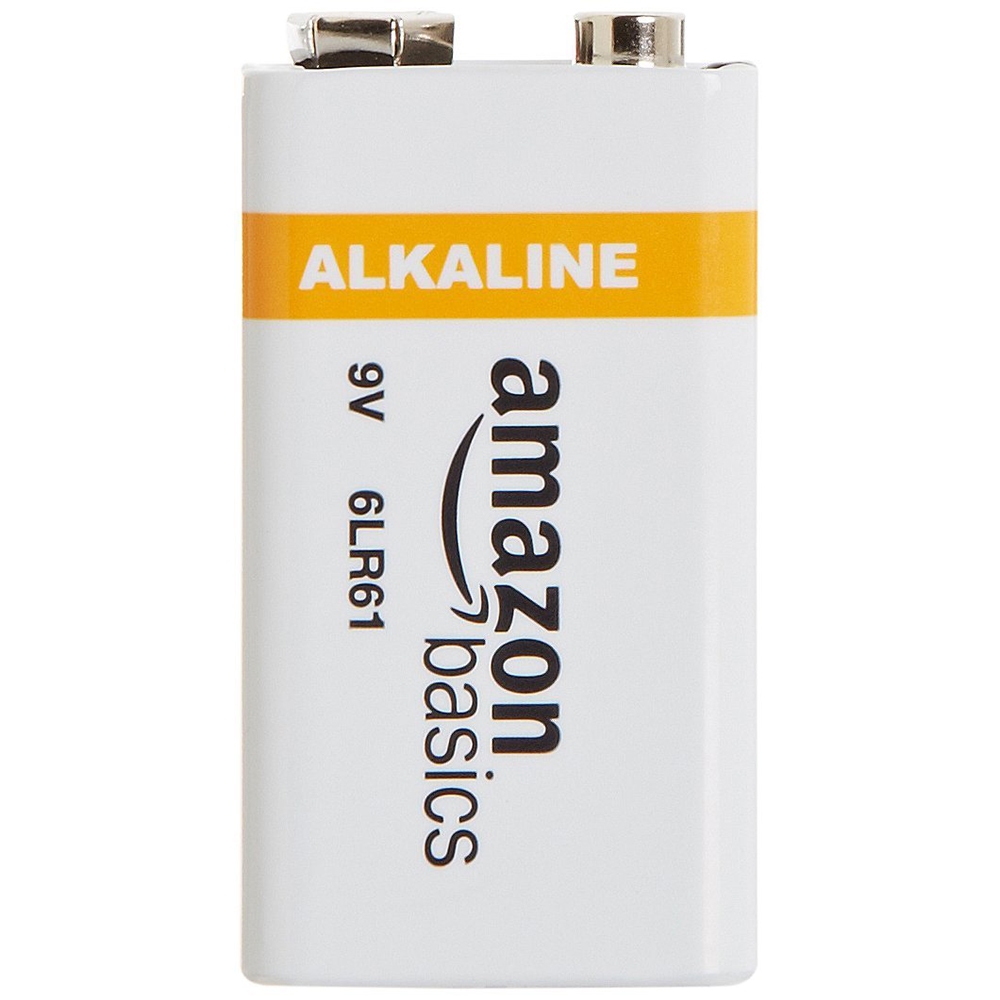9V: (219, 5, 783, 990)
